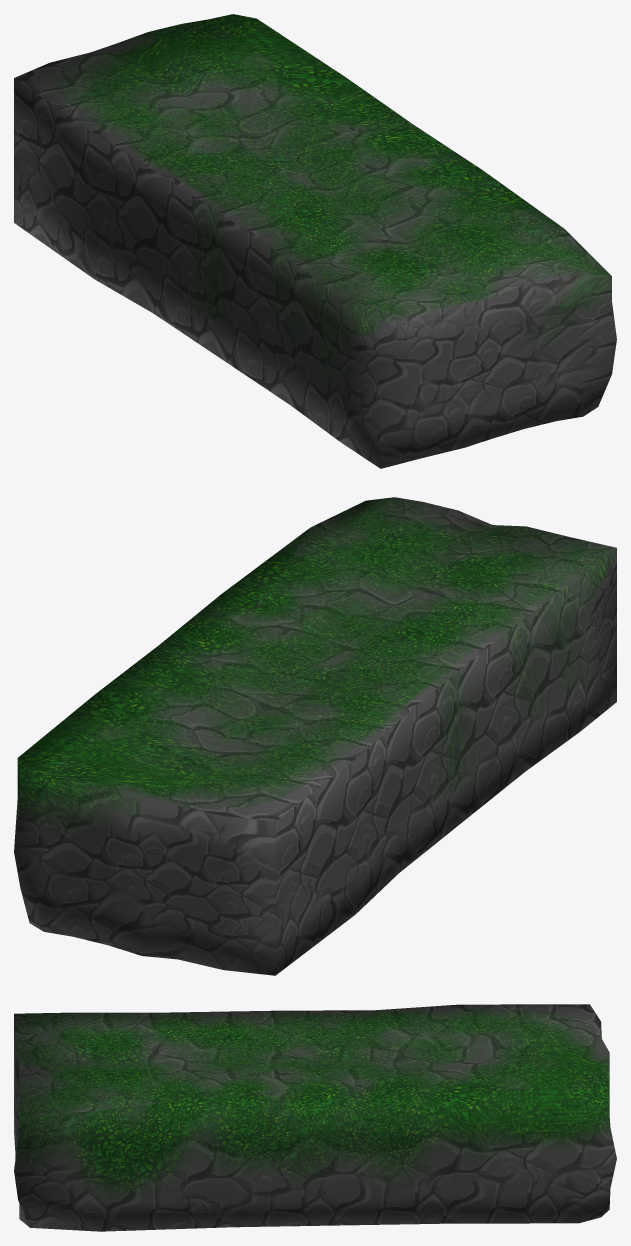
Rendered from stoneNearCave1 (2).fbx.
3 renders of one model, top to bottom at view 1: azimuth 30°, elevation 25°; view 2: azimuth 150°, elevation 25°; view 3: azimuth 270°, elevation 25°, orthographic. The views are drawn at different scales.
Parts seen in each view (by area): view 1: stoneNearCave1; view 2: stoneNearCave1; view 3: stoneNearCave1.
Part boxes in pixels (x1=…): stoneNearCave1: x1=14, y1=14, x2=616, y2=468; stoneNearCave1: x1=14, y1=497, x2=616, y2=975; stoneNearCave1: x1=14, y1=1004, x2=616, y2=1231.
Bounding box in the file's own units: 635 × 352 × 1504.
Materials: 1 (1 with a texture image).
